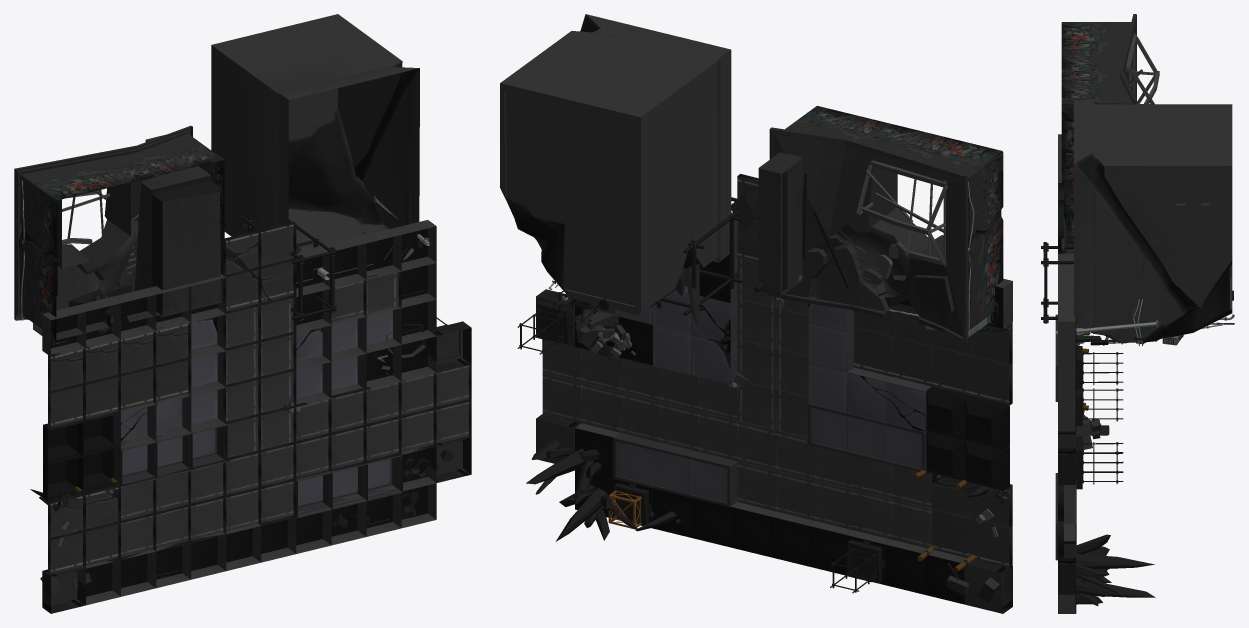
3 views of the same model, side by side, from view 1: azimuth 30°, elevation 25°; view 2: azimuth 150°, elevation 25°; view 3: azimuth 270°, elevation 25° (orthographic). The views are drawn at different scales.
Parts seen in each view (by area): view 1: S_playground, S_outworld, S_outworld_07, S_outworld_011, S_outworld_012, S_outworld_08, S_playground_095 (1), S_playground_095 (2); view 2: S_outworld, S_playground, S_playground_095 (2), S_outworld_07, S_outworld_08, S_outworld_012, S_outworld_011; view 3: S_outworld, S_playground.
Part boxes in pixels (x1,y1,x2,y2): S_playground: (42, 220, 436, 605); S_outworld: (14, 14, 471, 613); S_outworld_07: (188, 496, 226, 542); S_outworld_011: (118, 477, 155, 523); S_outworld_012: (153, 468, 190, 514); S_outworld_08: (188, 460, 226, 505); S_playground_095 (1): (361, 306, 401, 348); S_playground_095 (2): (325, 353, 366, 398); S_outworld: (500, 14, 1012, 613); S_playground: (575, 174, 1012, 604); S_playground_095 (2): (653, 325, 691, 375); S_outworld_07: (815, 480, 853, 530); S_outworld_08: (815, 446, 853, 489); S_outworld_012: (854, 456, 892, 499); S_outworld_011: (893, 465, 931, 508); S_outworld: (1041, 14, 1234, 605); S_playground: (1055, 134, 1080, 613).
Size of the model in its own units: 0.1201 by 0.1243 by 0.0481.
3 materials, 3 textured.
